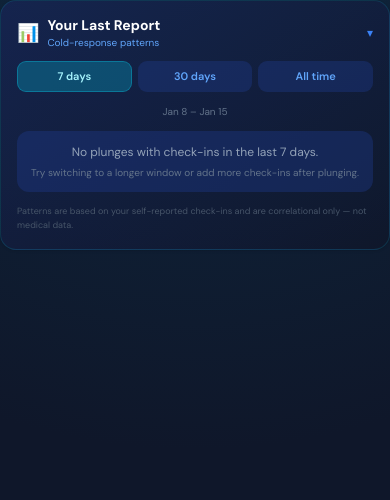
Scenario: DiscoveryReportCard — 30-day tab with sessions spanning two calendar months › switching back from 30-day to 7-day tab returns to the blank state
# Switch to 30 days → sweet spot visible
Click the button "30 days" at (195, 76), box [138,61,252,92]
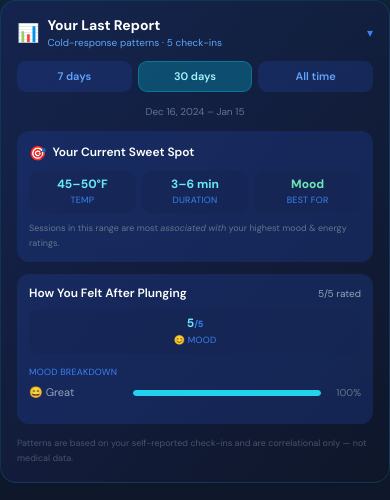
Result: the text "Your Current Sweet Spot" is shown at [52,145,194,160]
# Switch back to 7 days → blank again
Click the button "7 days" at (74, 76), box [17,61,132,92]
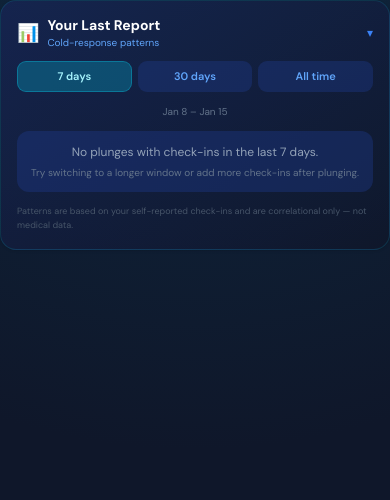
Result: the text "No plunges with check-ins in the last 7 days." is shown at [72,144,318,160]
Result: the text "Your Current Sweet Spot" is gone
